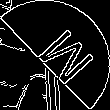M_SW: (20, 21, 90, 89)
